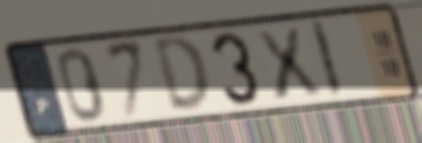0: (56, 45, 107, 126)
3: (209, 28, 263, 110)
7: (103, 36, 147, 124)
D: (150, 33, 213, 116)
I: (307, 18, 346, 101)
X: (250, 24, 326, 104)
